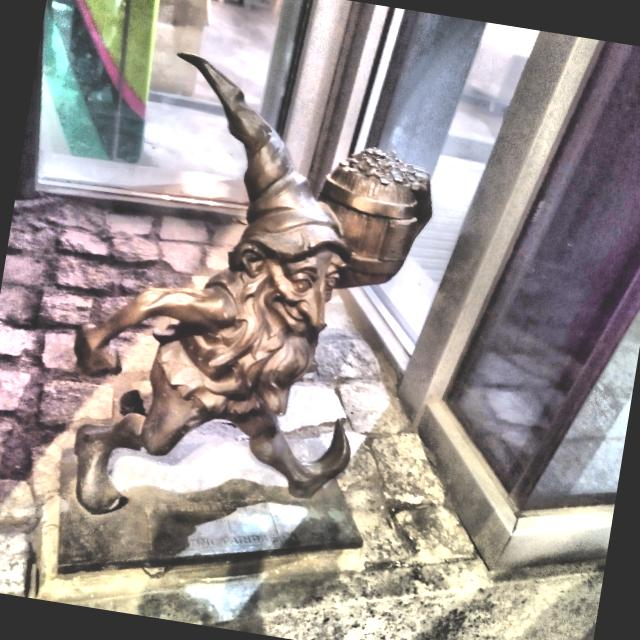Leprykonus: (52, 29, 470, 574)
